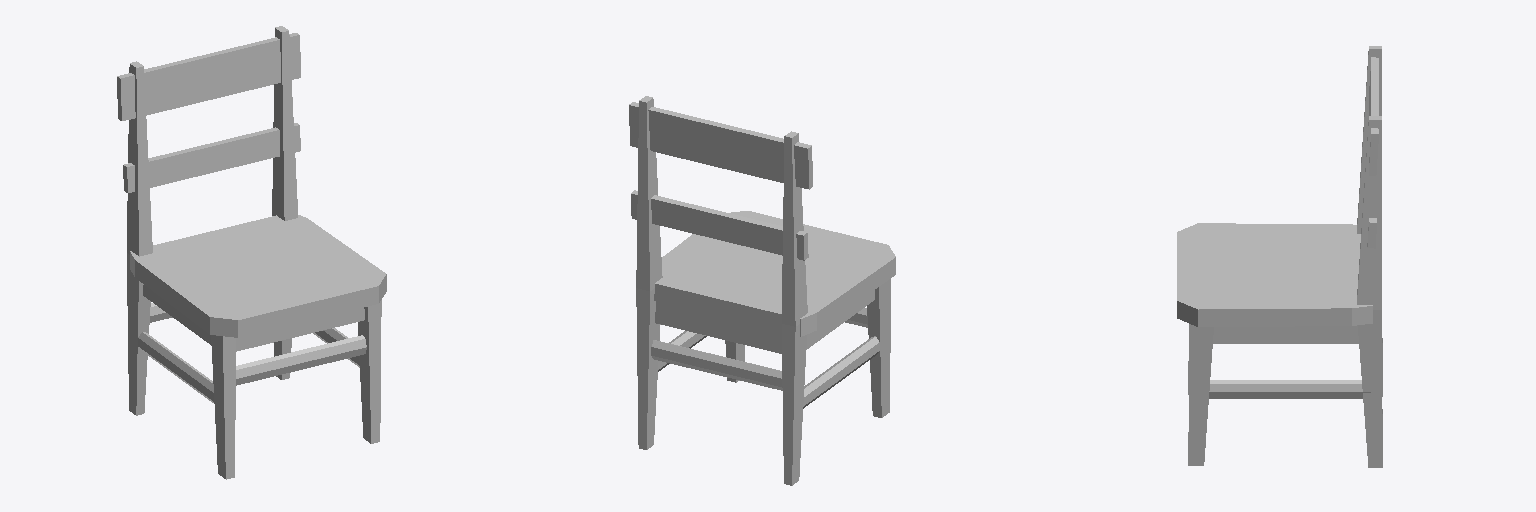
The model's file is obj chair.obj.
The picture shows the model from 3 angles: view 1: azimuth 30°, elevation 25°; view 2: azimuth 150°, elevation 25°; view 3: azimuth 270°, elevation 25°; orthographic projection.
Parts seen in each view (by area): view 1: Box001; view 2: Box001; view 3: Box001.
Part boxes in pixels (x1,y1,x2,y2): Box001: (117,26,386,479); Box001: (629,96,895,485); Box001: (1177,46,1382,467).
Size of the model in its own units: 23.19 by 42.95 by 23.06.